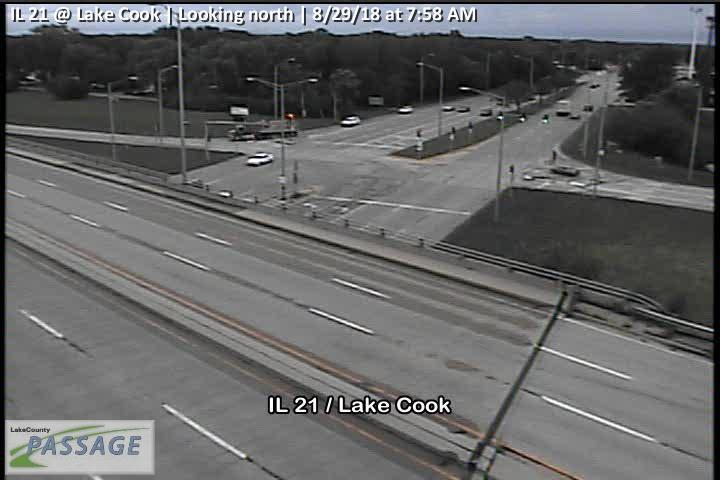Sedan: (245, 152, 274, 165), (550, 165, 579, 176)
